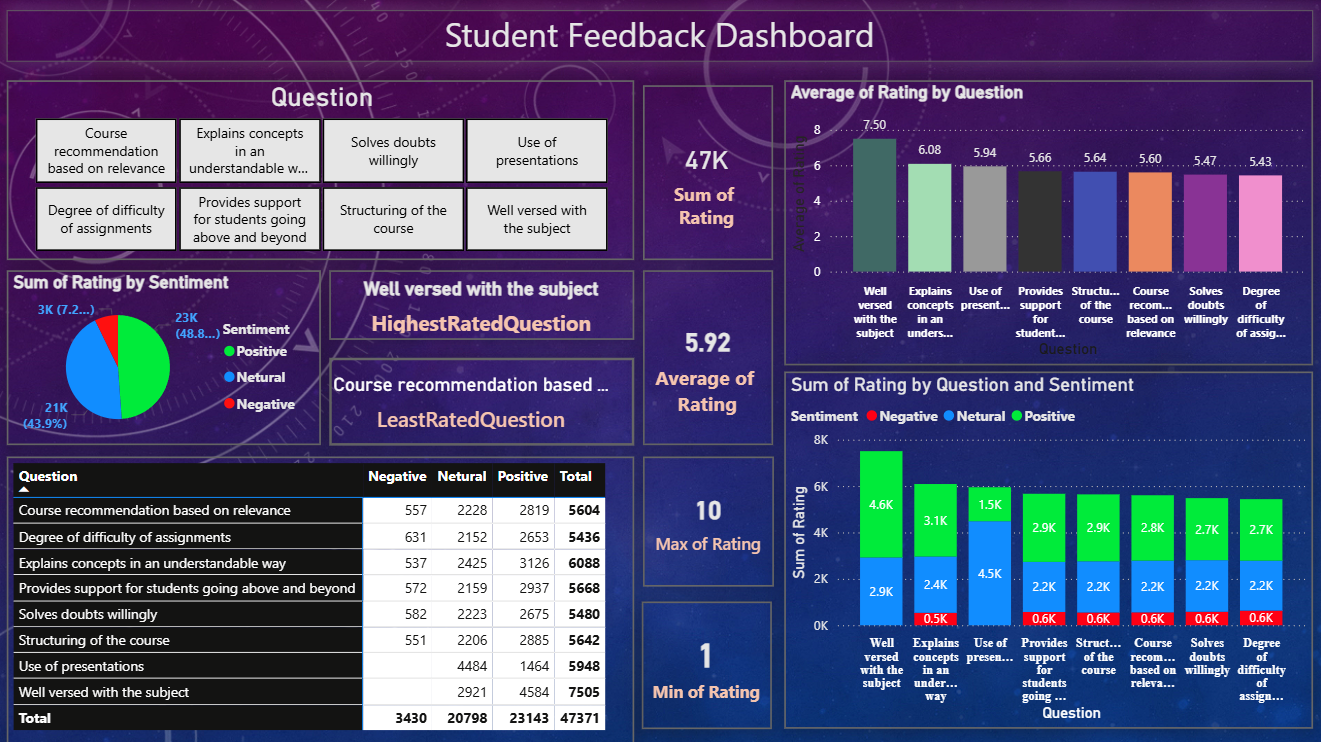

This screenshot's page, from the dashboard's own definition file:
{"tool":"powerbi","page":{"name":"Page 1","canvas":[1280,720],"ordinal":0},"visuals":[{"type":"columnChart","fields":{"Category":["student_feedback.Question"],"Y":["Avg(student_feedback.Rating)"]},"box":[758.9,78.4,510.3,275.1],"z":0},{"type":"card","title":"Av","fields":{"Values":["Avg(student_feedback.Rating)"]},"box":[622.5,261.8,125.5,168.9],"z":1},{"type":"card","fields":{"Values":["AvgRatingsTable.HighestRatedQuestion"]},"box":[319.7,261.8,294.4,67.6],"z":2},{"type":"card","fields":{"Values":["Min(student_feedback.Rating)"]},"box":[621.3,581.5,125.5,123.1],"z":3},{"type":"slicer","title":"Question","fields":{"Values":["student_feedback.Question"]},"box":[8.4,78.4,605.6,173.7],"z":4},{"type":"card","fields":{"Values":["Sum(student_feedback.Rating)"]},"box":[622.5,83.2,125.5,168.9],"z":5},{"type":"card","fields":{"Values":["AvgRatingsTable.LeastRatedQuestion"]},"box":[319.7,346.2,294.4,84.5],"z":6},{"type":"card","fields":{"Values":["Max(student_feedback.Rating)"]},"box":[622.5,441.6,126.7,125.5],"z":7},{"type":"pieChart","fields":{"Category":["student_feedback.Sentiment"],"Y":["Sum(student_feedback.Rating)"]},"box":[8.4,261.8,302.8,168.9],"z":8},{"type":"columnChart","fields":{"Y":["Sum(student_feedback.Rating)"],"Category":["student_feedback.Question"],"Series":["student_feedback.Sentiment"]},"box":[758.9,359.5,510.3,345],"z":9},{"type":"textbox","box":[8.4,10.9,1260.7,49.5],"z":10},{"type":"pivotTable","fields":{"Rows":["student_feedback.Question"],"Values":["Sum(student_feedback.Rating)"],"Columns":["student_feedback.Sentiment"]},"box":[8.4,441.3,605.6,278.7],"z":11}]}

Visuals, with their boxes in screenshot pixels (x1, y1, x2, y2), scaled from the page's 1280x720 canvas onto the 1321x742 screenshot:
columnChart - student_feedback.Question x Avg(student_feedback.Rating): locate(783, 81, 1310, 364)
"Av" card: locate(642, 270, 772, 444)
card - AvgRatingsTable.HighestRatedQuestion: locate(330, 270, 634, 339)
card - Min(student_feedback.Rating): locate(641, 599, 771, 726)
"Question" slicer: locate(9, 81, 634, 260)
card - Sum(student_feedback.Rating): locate(642, 86, 772, 260)
card - AvgRatingsTable.LeastRatedQuestion: locate(330, 357, 634, 444)
card - Max(student_feedback.Rating): locate(642, 455, 773, 584)
pieChart - student_feedback.Sentiment x Sum(student_feedback.Rating): locate(9, 270, 321, 444)
columnChart - Sum(student_feedback.Rating) x student_feedback.Question: locate(783, 370, 1310, 726)
textbox: locate(9, 11, 1310, 62)
pivotTable - student_feedback.Question x Sum(student_feedback.Rating): locate(9, 455, 634, 741)
